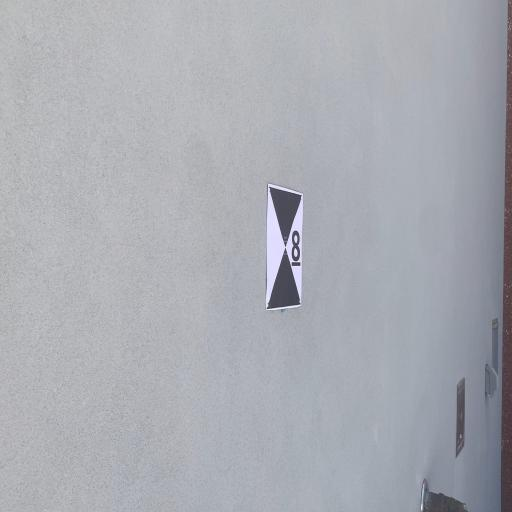target8: (266, 184, 303, 310)
